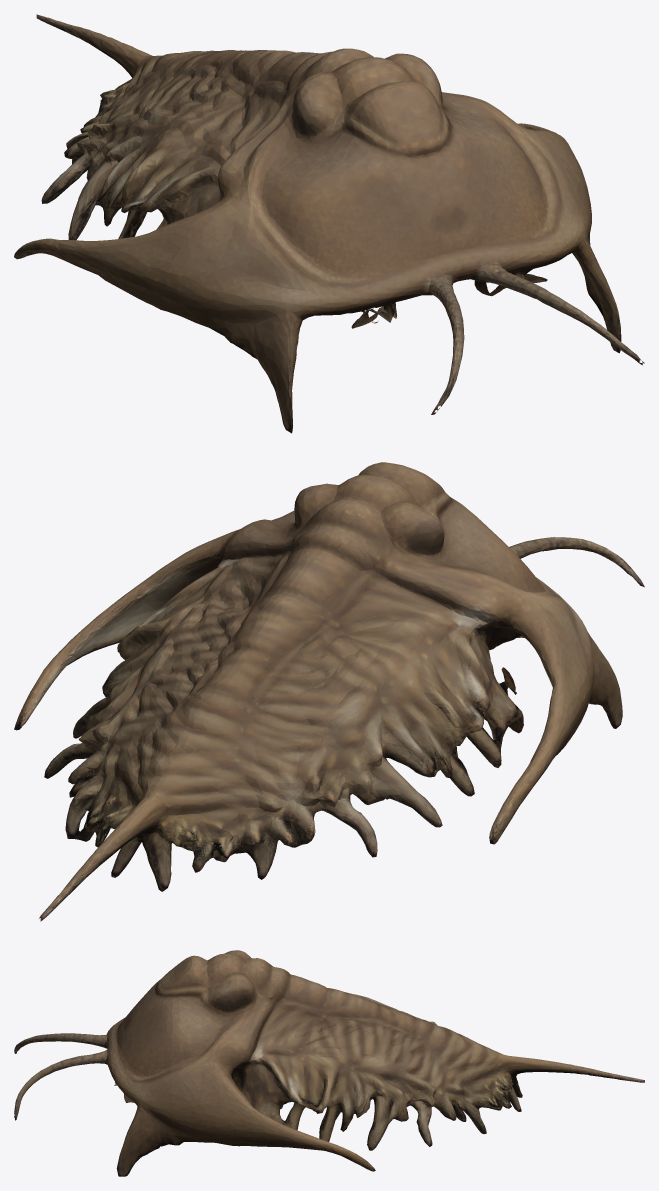
3 views of the same model, one above another, from view 1: azimuth 30°, elevation 25°; view 2: azimuth 150°, elevation 25°; view 3: azimuth 270°, elevation 25° (orthographic). The views are drawn at different scales.
Visible parts, largest first — view 1: world; view 2: world; view 3: world.
Part boxes in pixels (left/top/right/bottom): world: left=14, top=14, right=644, bottom=433; world: left=14, top=462, right=644, bottom=921; world: left=14, top=950, right=644, bottom=1176.
Bounding box in the file's own units: 0.0476 × 0.0251 × 0.085.
1 material, 1 textured.
